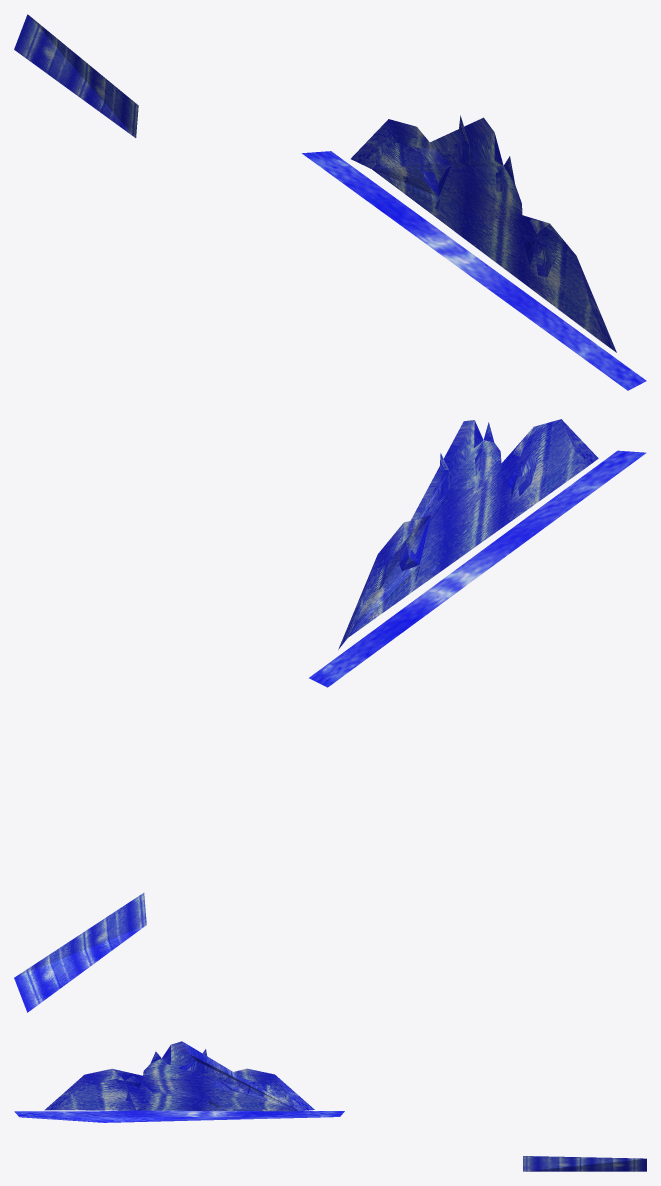
3 views of the same model, one above another, from view 1: azimuth 30°, elevation 25°; view 2: azimuth 150°, elevation 25°; view 3: azimuth 270°, elevation 25° (orthographic). The views are drawn at different scales.
Bounding box in the file's own units: 0.0169 × 0.1637 × 0.7018.
1 material, 1 textured.
